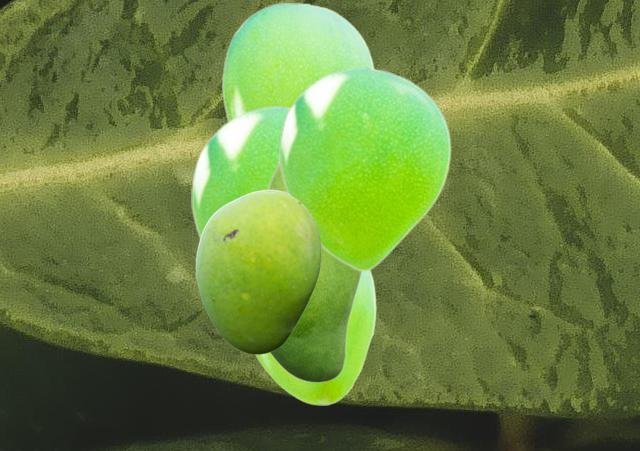green_mango: (279, 66, 450, 271), (267, 161, 364, 382), (195, 189, 320, 353), (221, 2, 375, 120), (252, 270, 375, 404), (191, 105, 290, 241)
